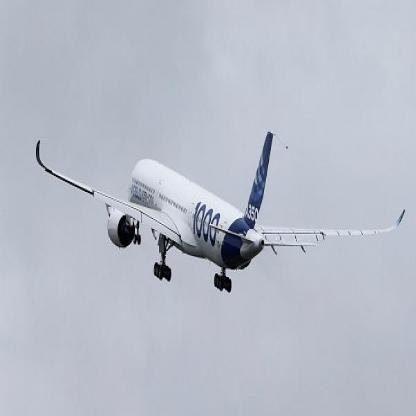CIV_Plane: (34, 122, 407, 293)
